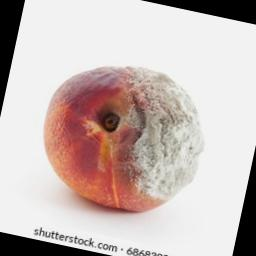Peach Rotten: (26, 46, 219, 228)
